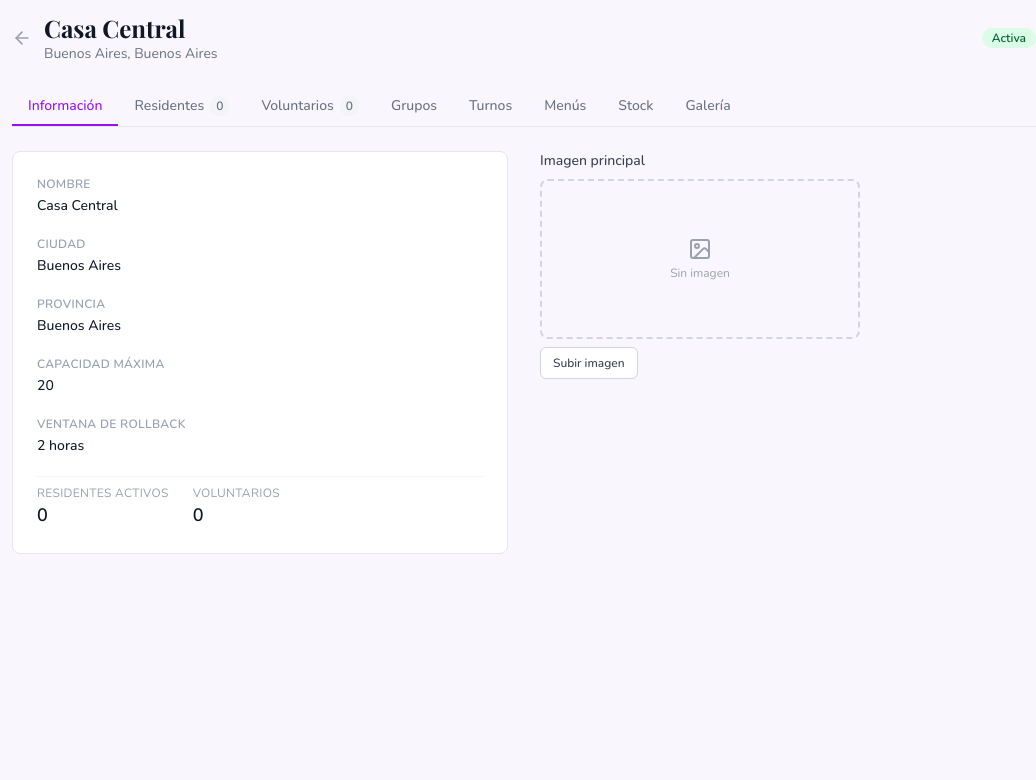
Test: ResidenciaDetailPage — tabs › cambia al tab Residentes al hacer clic
Click the tab "Residentes 0": (182, 107) [118,88,245,126]
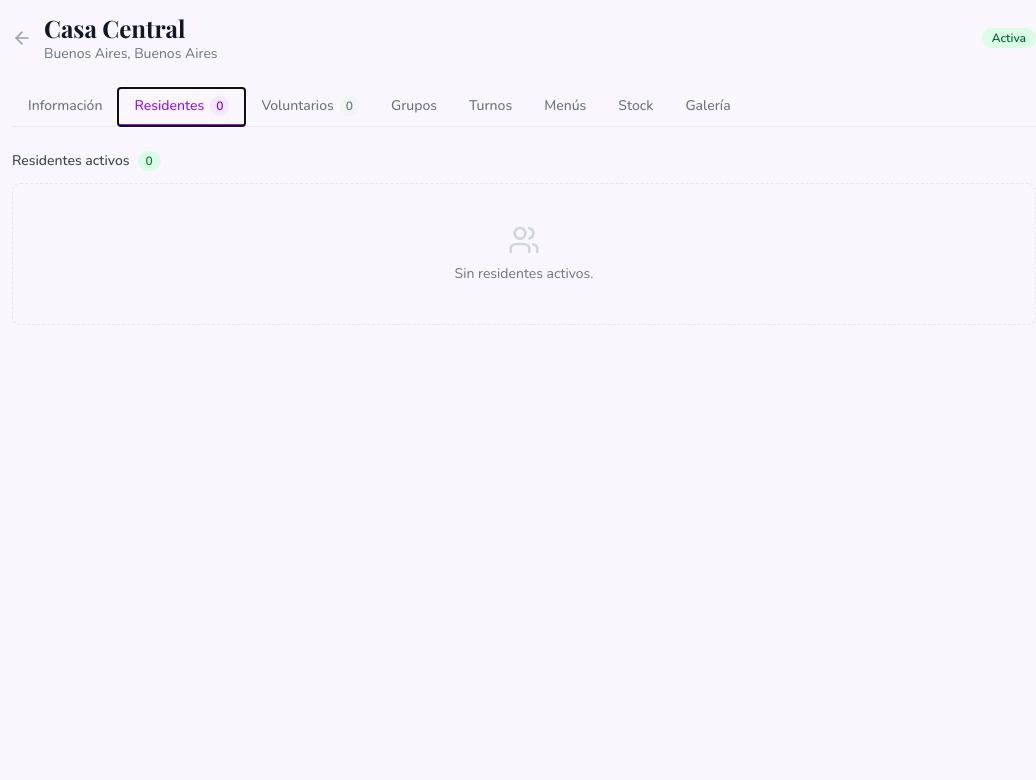
Expected: the text "Sin residentes activos." is shown, [455,264,594,284]
